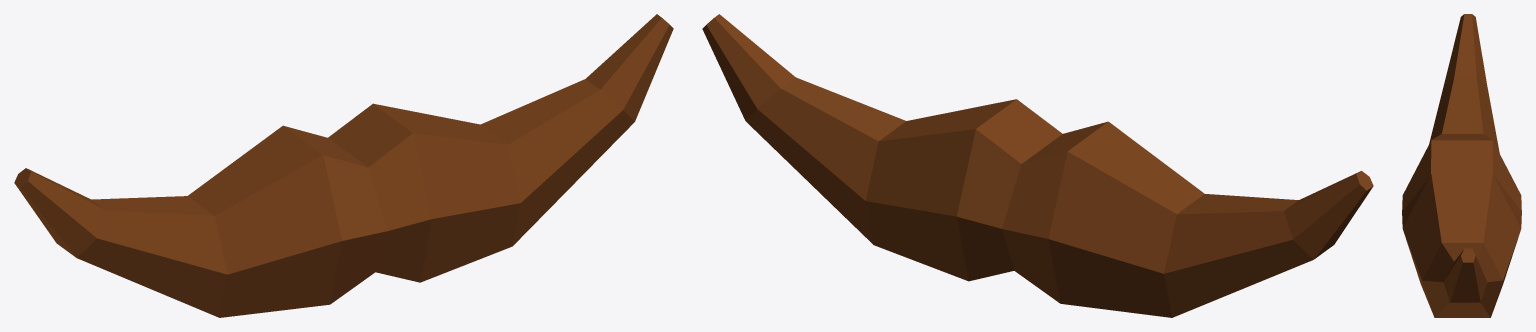
File: Bigote.fbx
The picture shows the model from 3 angles, left to right: view 1: azimuth 30°, elevation 25°; view 2: azimuth 150°, elevation 25°; view 3: azimuth 270°, elevation 25°; orthographic projection. The views are drawn at different scales.
Parts seen in each view (by area): view 1: Bigote; view 2: Bigote; view 3: Bigote.
Part boxes in pixels (x1,y1,x2,y2): Bigote: (14,14,673,317); Bigote: (702,14,1373,317); Bigote: (1402,14,1521,317).
Bounding box in the file's own units: 26.9 × 7.01 × 5.61.
